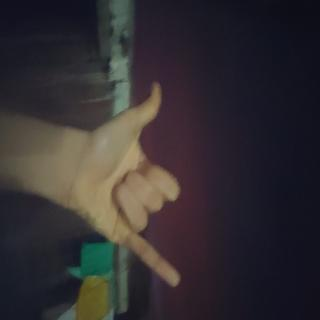YA: (56, 180, 220, 320)
